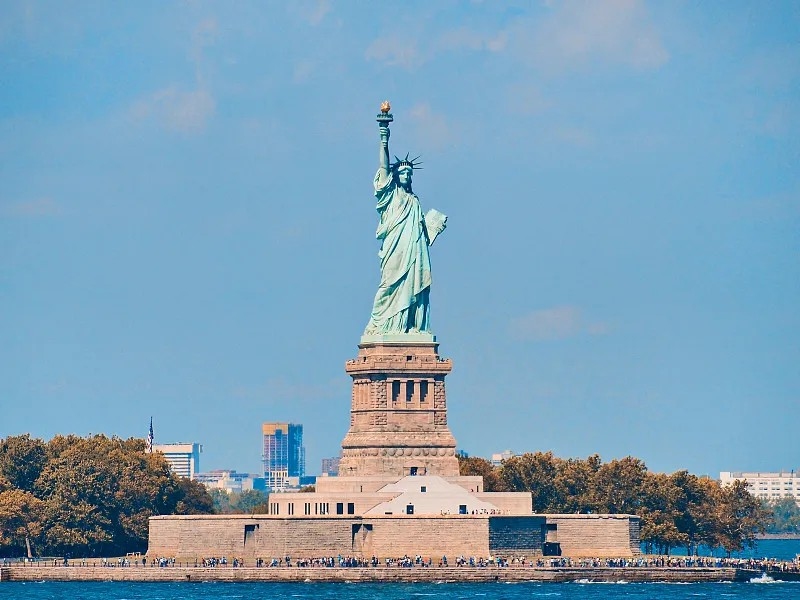SL: (337, 101, 460, 475)
